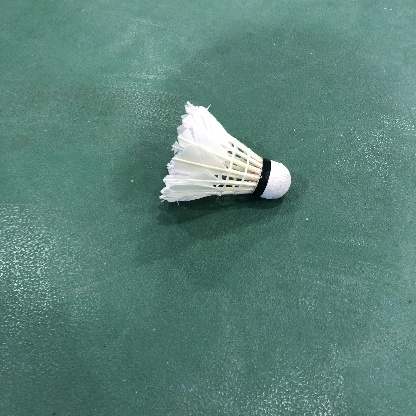ball_single: (159, 100, 291, 202)
